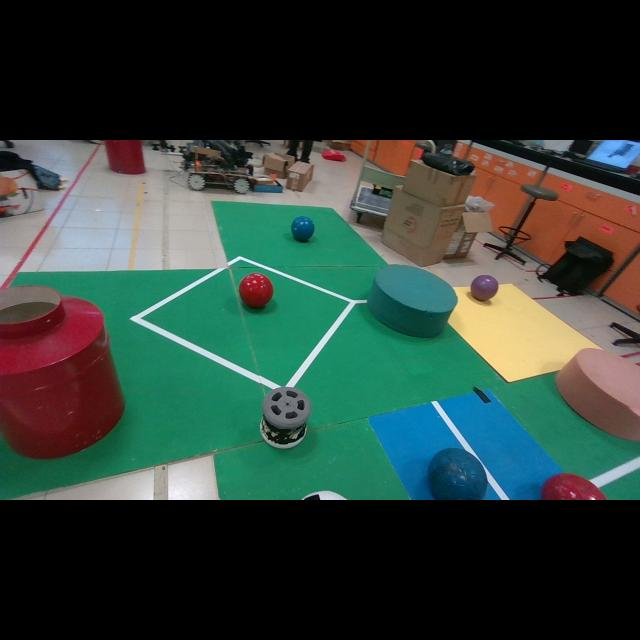B: (428, 448, 488, 499), (291, 216, 315, 242)
P: (471, 275, 499, 301)
R: (541, 472, 608, 500), (239, 272, 274, 308)
